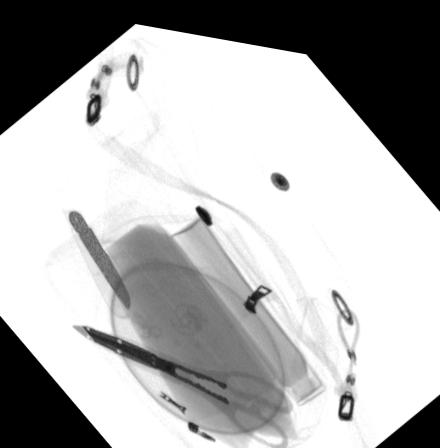Knife: (68, 204, 129, 304)
Scissors: (71, 320, 292, 440)
